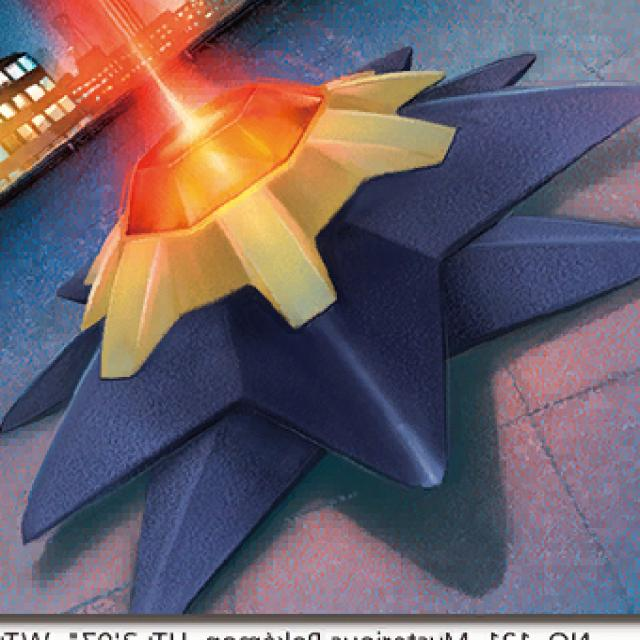Starmie: (74, 64, 476, 477)
